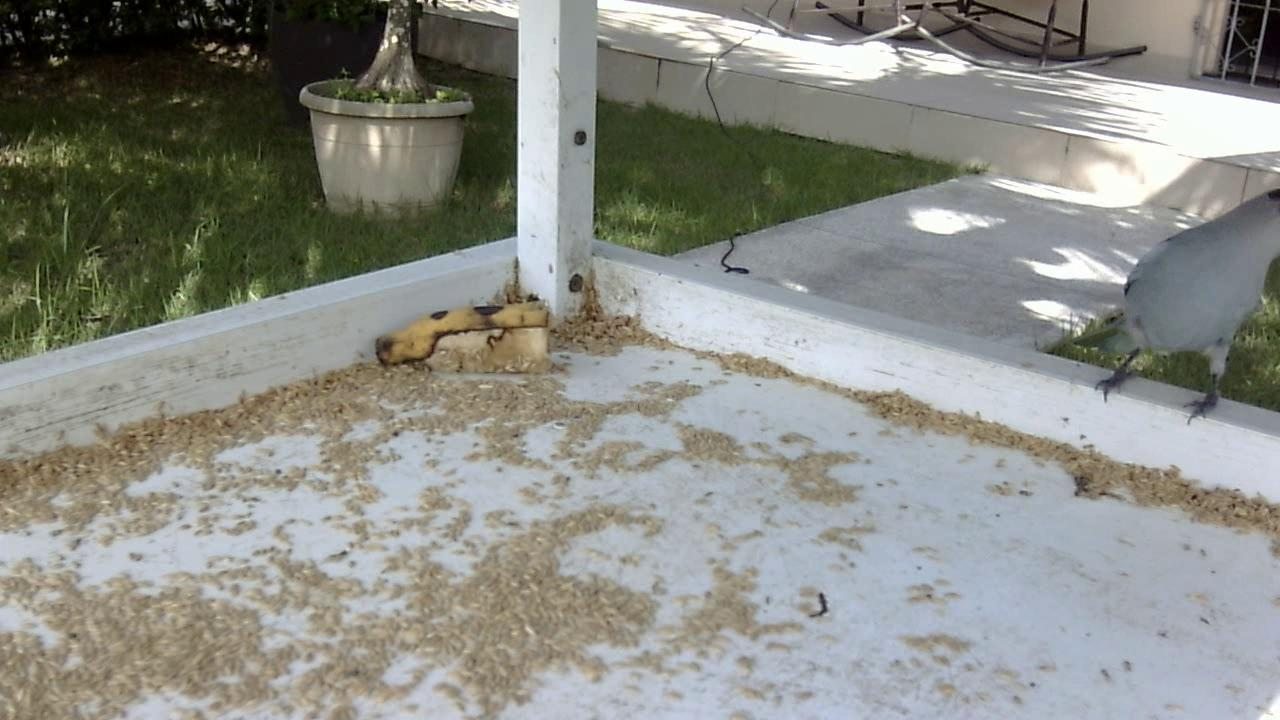sanhaco_da_amazonia: (1013, 178, 1280, 434)
